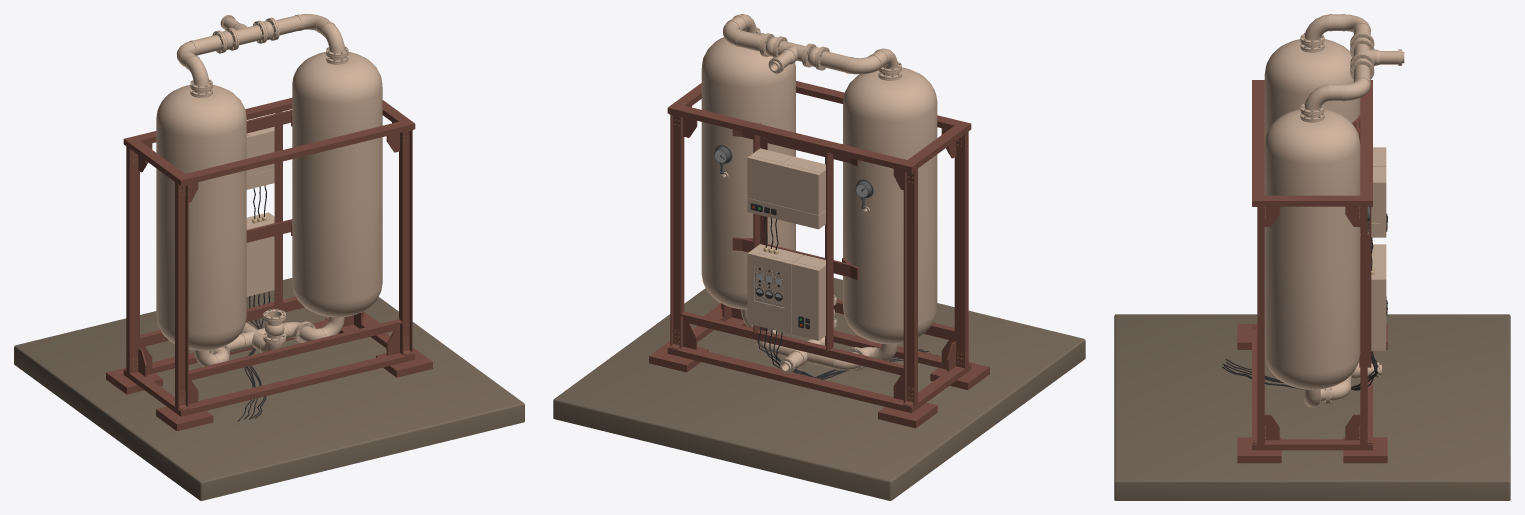
3 views of the same model, side by side, from view 1: azimuth 30°, elevation 25°; view 2: azimuth 150°, elevation 25°; view 3: azimuth 270°, elevation 25° (orthographic). The views are drawn at different scales.
Visible parts, largest first — view 1: Plane.005, Cylinder, Cube.007, Cube.001, Cylinder.032, Cube.002, Cube, Cylinder.006, Cube.011, Cube.006, Cube.010, Cylinder.009 (+4 smaller); view 2: Plane.005, Cylinder, Cube.007, Cube.001, Cube.011, Cube.010, Cylinder.032, Cube.002, Cube, Cube.006, Cylinder.006, Cube.003 (+5 smaller); view 3: Plane.005, Cylinder, Cube.007, Cylinder.032, Cube.001, Cube, Cube.011, Cube.010, Cube.004, Cube.006, Cylinder.006.
Part boxes in pixels (x1,y1,x2,y2): Plane.005: (14,278,524,500); Cylinder: (156,52,382,350); Cube.007: (123,98,415,416); Cube.001: (126,130,412,414); Cylinder.032: (176,14,348,97); Cube.002: (140,297,402,380); Cube: (106,312,432,431); Cylinder.006: (194,317,344,366); Cube.011: (246,212,274,296); Cube.006: (274,111,282,305); Cube.010: (246,126,274,189); Cylinder.009: (241,309,285,352); Plane.005: (553,278,1085,500); Cylinder: (701,33,937,344); Cube.007: (667,81,971,413); Cube.001: (670,114,968,410); Cube.011: (747,244,825,340); Cube.010: (747,148,825,229); Cylinder.032: (723,14,901,80); Cube.002: (680,299,954,375); Cube: (649,304,989,428); Cube.006: (753,134,833,351); Cylinder.006: (741,309,897,372); Cube.003: (683,117,954,400); Plane.005: (1114,314,1510,500); Cylinder: (1264,39,1360,389); Cube.007: (1252,80,1372,450); Cylinder.032: (1300,14,1404,122); Cube.001: (1257,206,1367,450); Cube: (1237,324,1387,463); Cube.011: (1371,244,1386,350); Cube.010: (1371,147,1386,237); Cube.004: (1264,206,1360,440); Cube.006: (1359,128,1371,367); Cylinder.006: (1304,363,1379,407).
Bounding box in the file's own units: 829 × 855 × 829.
